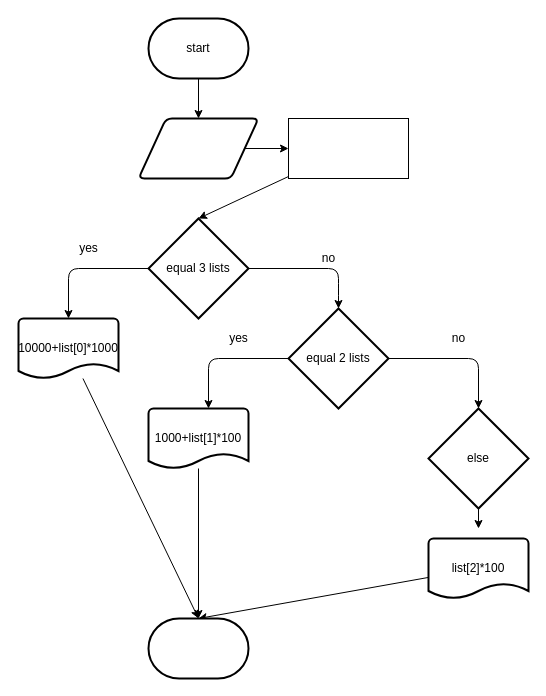
Image size: 546x696. Some labels were removed from this diagram. The centre of each missing label's shape, as x and y in pixels:
"3 number of list" belongs at point (198, 148).
"finish" belongs at point (198, 648).
"list.sort()" belongs at point (348, 148).
